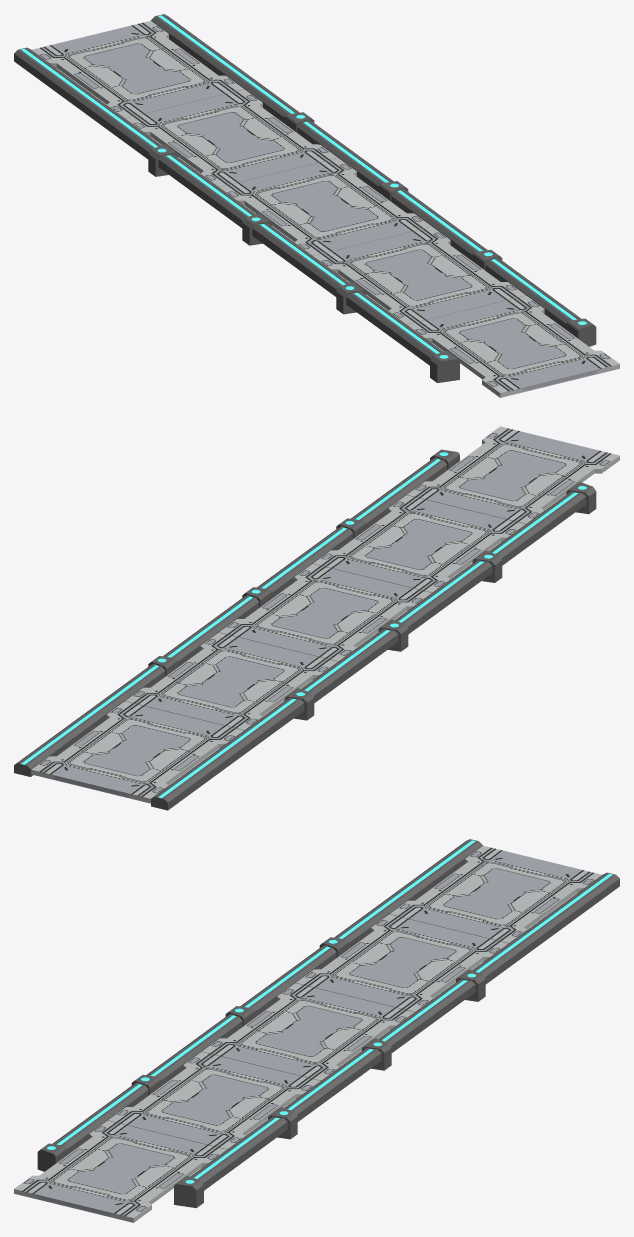
File: Walk.fbx
3 views of the same model, one above another, from view 1: azimuth 30°, elevation 25°; view 2: azimuth 150°, elevation 25°; view 3: azimuth 330°, elevation 25° (orthographic).
Visible parts, largest first — view 1: Cube.030, Cube.027, Cube.035; view 2: Cube.030, Cube.027, Cube.035; view 3: Cube.030, Cube.027, Cube.035.
Boxes of the visible parts, <box> form: Cube.030: <box>31,20,619,397</box>; Cube.027: <box>14,14,581,365</box>; Cube.035: <box>148,112,596,383</box>; Cube.030: <box>31,426,619,803</box>; Cube.027: <box>14,457,586,810</box>; Cube.035: <box>148,449,596,720</box>; Cube.030: <box>14,845,602,1222</box>; Cube.027: <box>52,839,619,1190</box>; Cube.035: <box>37,937,485,1208</box>.
Size of the model in its own units: 902 by 115 by 4617.
Materials: 3 (1 with a texture image).
